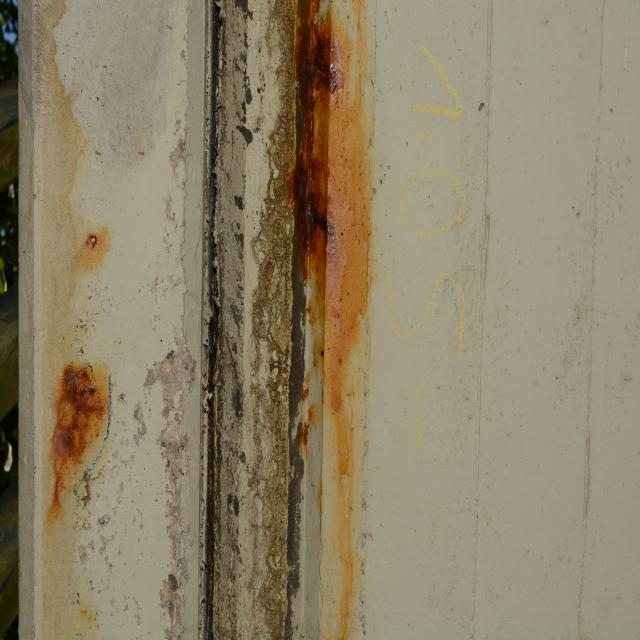corrosion: (278, 0, 385, 640), (34, 0, 116, 640)
